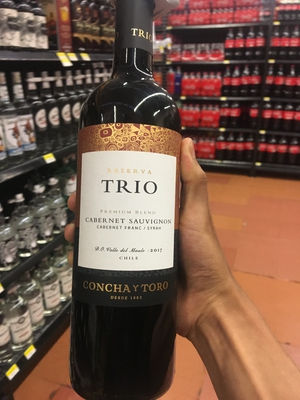trio cabernet sauvignon: (67, 7, 194, 397)
